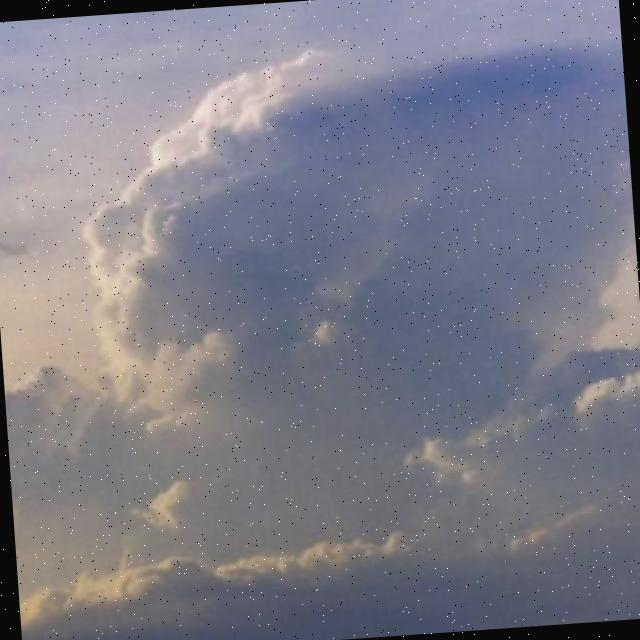Ci: (1, 51, 640, 565)
